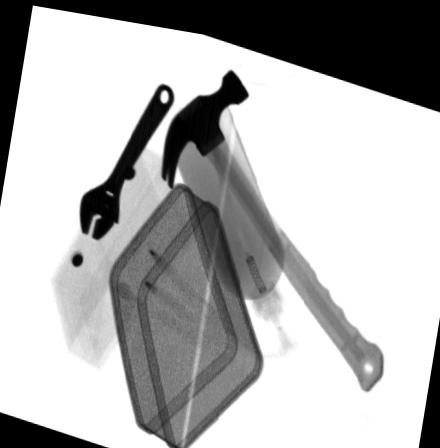Hammer: (164, 59, 387, 382)
Wrench: (80, 78, 174, 237)
